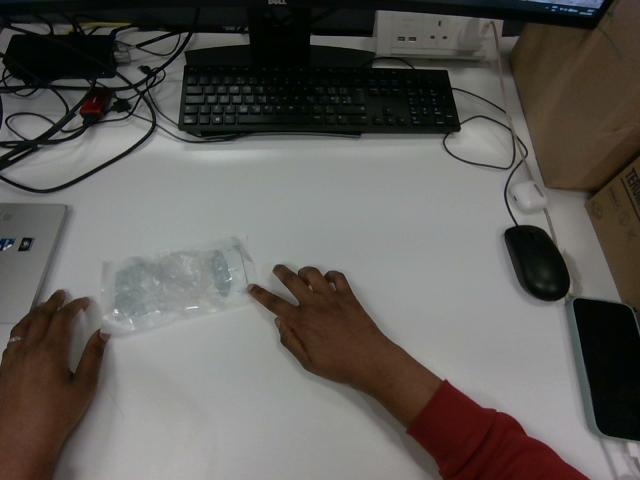gallipot: (101, 237, 254, 333)
